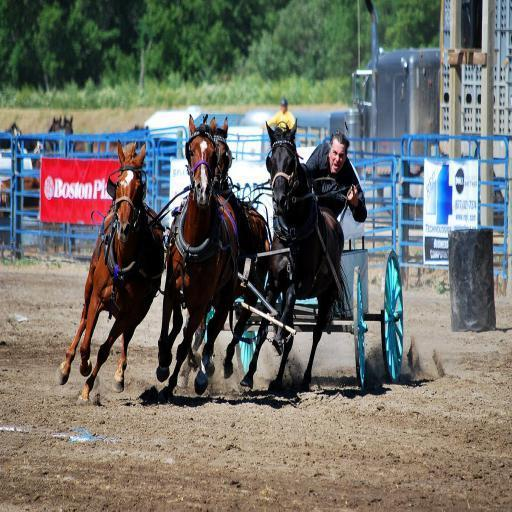horse: (240, 118, 356, 390), (56, 140, 166, 406), (182, 116, 270, 388), (155, 115, 237, 396), (0, 117, 63, 219), (61, 115, 119, 155)
